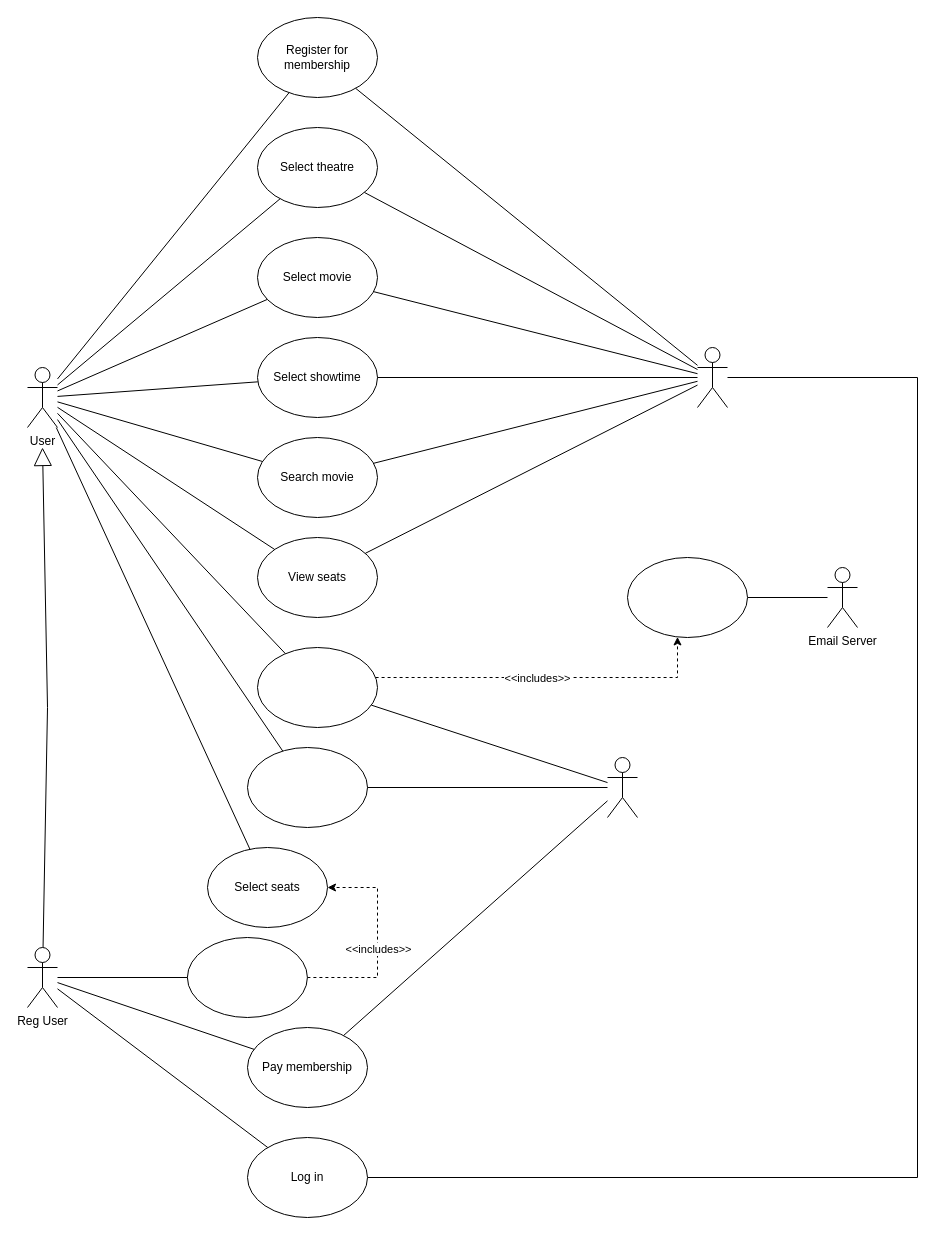
Some shapes in this 936 by 1235 pixel diagram are drawn without their labels. Here are the shapes that lost their labels. From the top down, the centre of each, then its label:
the point at 712,377: Database engine
the point at 687,597: Send confirmation
the point at 317,687: Pay ticket
the point at 307,787: Cancel ticket
the point at 622,787: Bank
the point at 246,977: Access seat earlier
